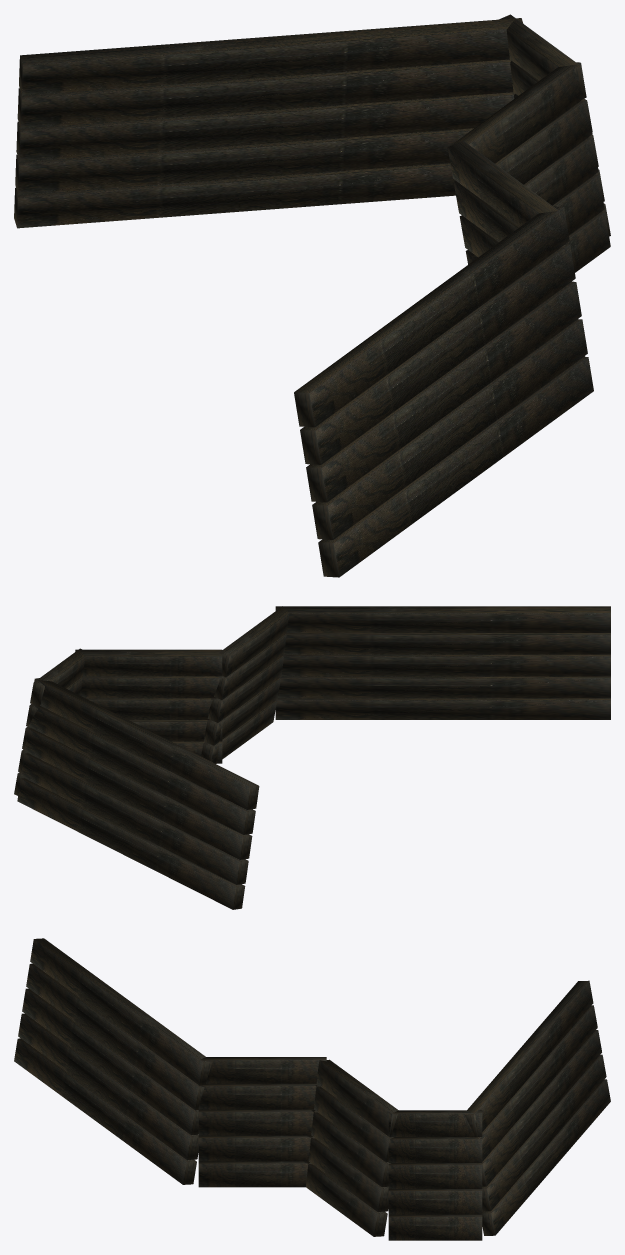
Rendered from WoodenBarrierPartTest09.obj.
The picture shows the model from 3 angles, top to bottom: view 1: azimuth 30°, elevation 25°; view 2: azimuth 150°, elevation 25°; view 3: azimuth 270°, elevation 25°; orthographic projection. The views are drawn at different scales.
Parts seen in each view (by area): view 1: Box002; view 2: Box002; view 3: Box002.
Boxes of the visible parts, x1,y1,x2,y2 form: Box002: (14, 14, 610, 577); Box002: (14, 606, 610, 909); Box002: (14, 938, 610, 1240).
Size of the model in its own units: 214 by 63.84 by 289.
